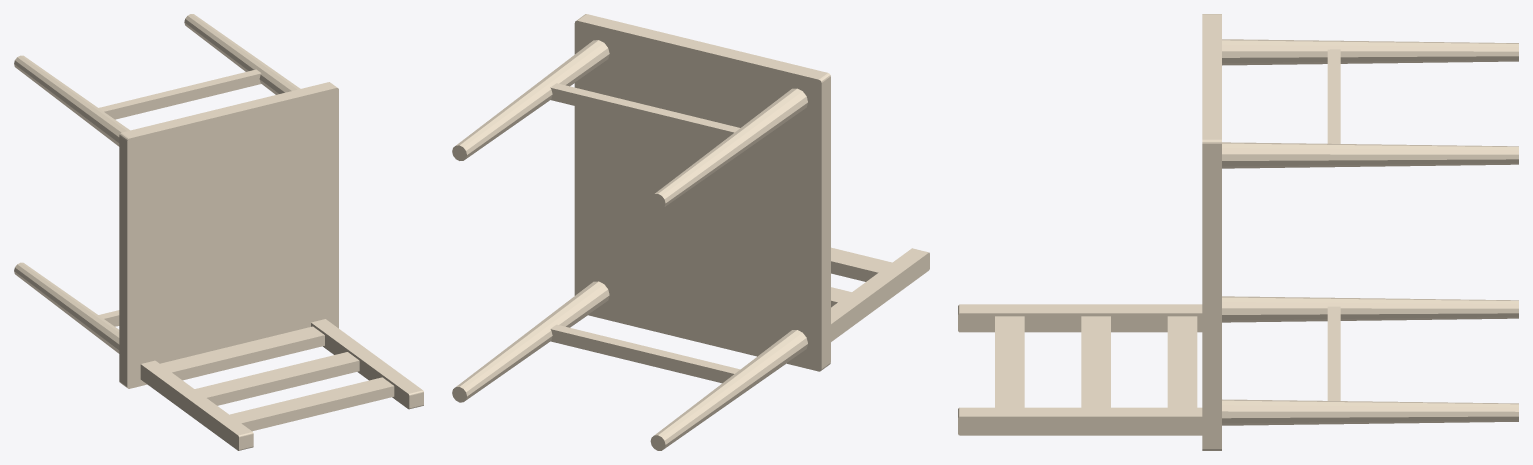
Rendered from chair.glb.
3 views of the same model, side by side, from view 1: azimuth 30°, elevation 25°; view 2: azimuth 150°, elevation 25°; view 3: azimuth 270°, elevation 25° (orthographic). The views are drawn at different scales.
Visible parts, largest first — view 1: seat, back_slat_8, back_slat_9, back_slat, back_post, back_post_6, stretcher_11, leg_2, leg, leg_4; view 2: seat, leg_2, leg, leg_3, leg_4, stretcher, stretcher_11, back_post, back_slat_9; view 3: seat, back_post_6, leg_3, leg_4, leg_2, leg, back_post, back_slat, back_slat_8, back_slat_9, stretcher, stretcher_11.
Part boxes in pixels (x1,y1,x2,y2): seat: (119, 82, 338, 388); back_slat_8: (195, 352, 359, 405); back_slat_9: (230, 377, 394, 431); back_slat: (160, 326, 324, 380); back_post: (140, 360, 253, 450); back_post_6: (311, 319, 423, 409); stretcher_11: (99, 69, 261, 119); leg_2: (14, 55, 129, 146); leg: (14, 262, 119, 353); leg_4: (184, 14, 300, 94); seat: (574, 14, 830, 371); leg_2: (650, 88, 807, 209); leg: (650, 330, 807, 450); leg_3: (452, 281, 609, 402); leg_4: (452, 40, 609, 160); stretcher: (550, 324, 740, 383); stretcher_11: (550, 83, 739, 141); back_post: (831, 248, 929, 341); back_slat_9: (831, 247, 892, 281); seat: (1202, 14, 1221, 450); back_post_6: (958, 407, 1202, 435); leg_3: (1222, 399, 1518, 425); leg_4: (1222, 142, 1518, 168); leg_2: (1222, 39, 1518, 65); leg: (1222, 296, 1518, 322); back_post: (958, 304, 1202, 332); back_slat: (1167, 316, 1197, 407); back_slat_8: (1081, 316, 1110, 407); back_slat_9: (995, 316, 1024, 407); stretcher: (1327, 306, 1340, 400); stretcher_11: (1327, 49, 1340, 143).
Bounding box in the file's own units: 0.46 × 0.52 × 0.85.
